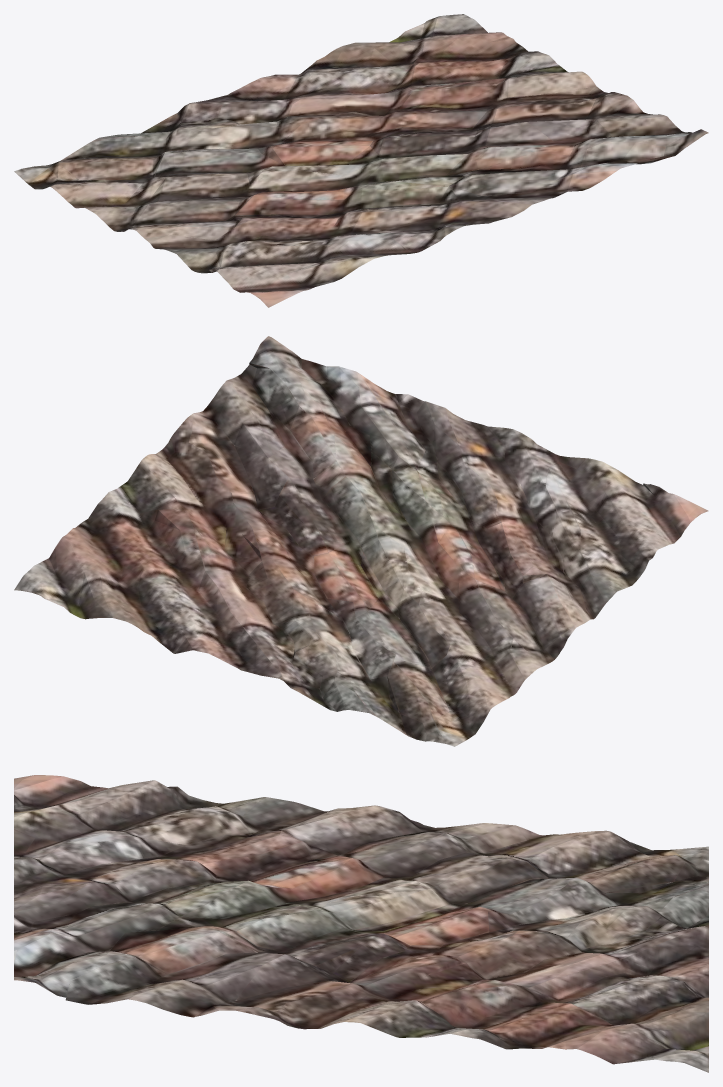
3 views of the same model, one above another, from view 1: azimuth 30°, elevation 25°; view 2: azimuth 150°, elevation 25°; view 3: azimuth 270°, elevation 25° (orthographic). The views are drawn at different scales.
Size of the model in its own units: 1.67 by 0.4353 by 1.67.
Materials: 3 (3 with a texture image).
